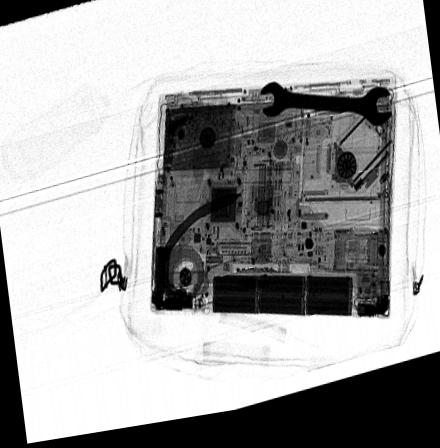Wrench: (256, 90, 395, 143)
